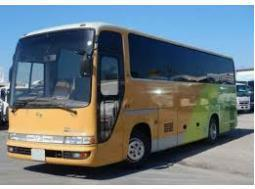bus: (9, 24, 236, 168)
